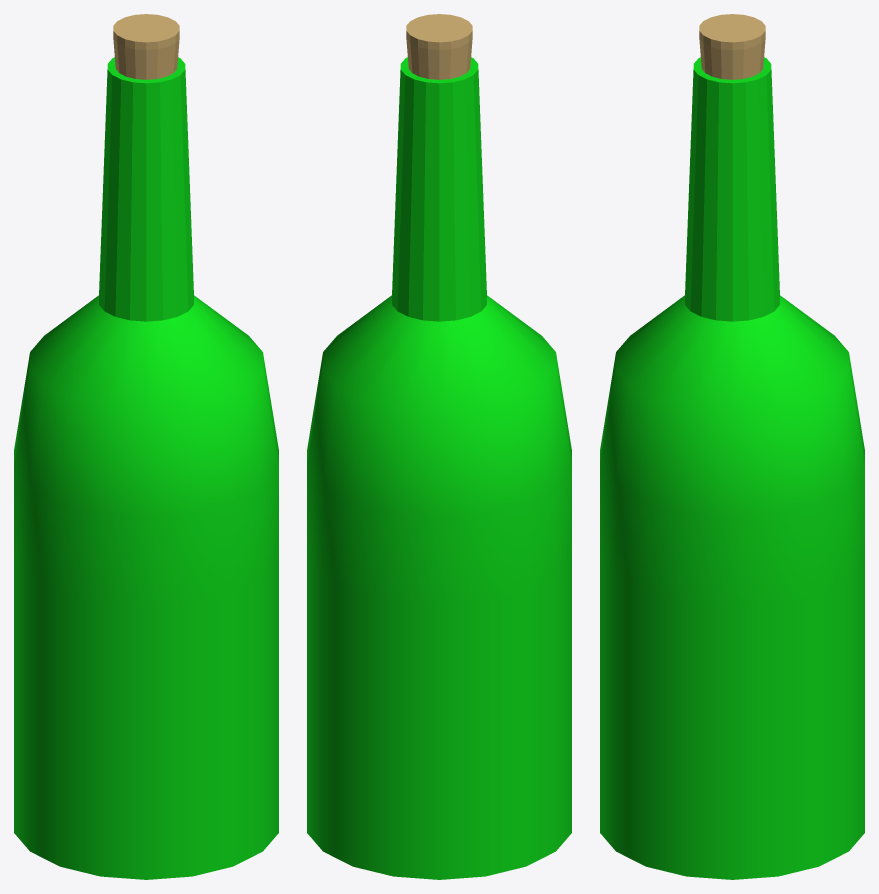
The model's file is bottle1_textured.fbx.
3 renders of one model, left to right at view 1: azimuth 30°, elevation 25°; view 2: azimuth 150°, elevation 25°; view 3: azimuth 270°, elevation 25°, orthographic.
Visible parts, largest first — view 1: Bottle1; view 2: Bottle1; view 3: Bottle1.
Boxes of the visible parts, x1,y1,x2,y2 form: Bottle1: (14,14,278,879); Bottle1: (307,14,571,879); Bottle1: (600,14,864,879).
Size of the model in its own units: 7.78 by 25.39 by 7.67.
